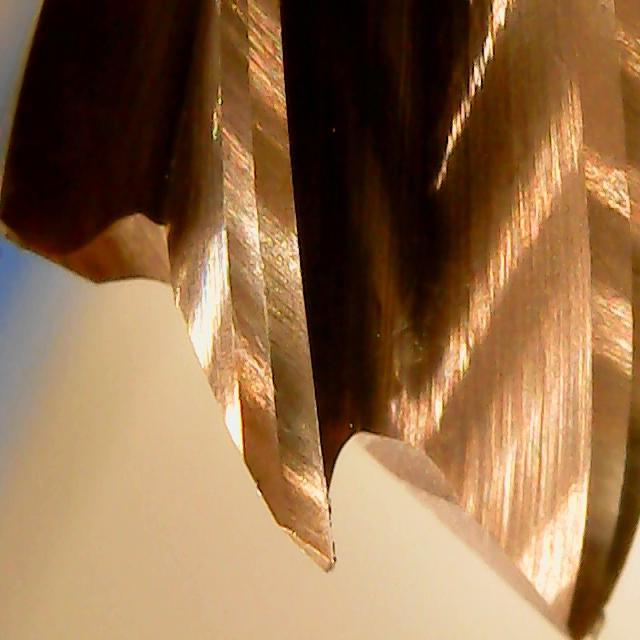Tool-wear-class-0: (214, 240, 351, 576)
